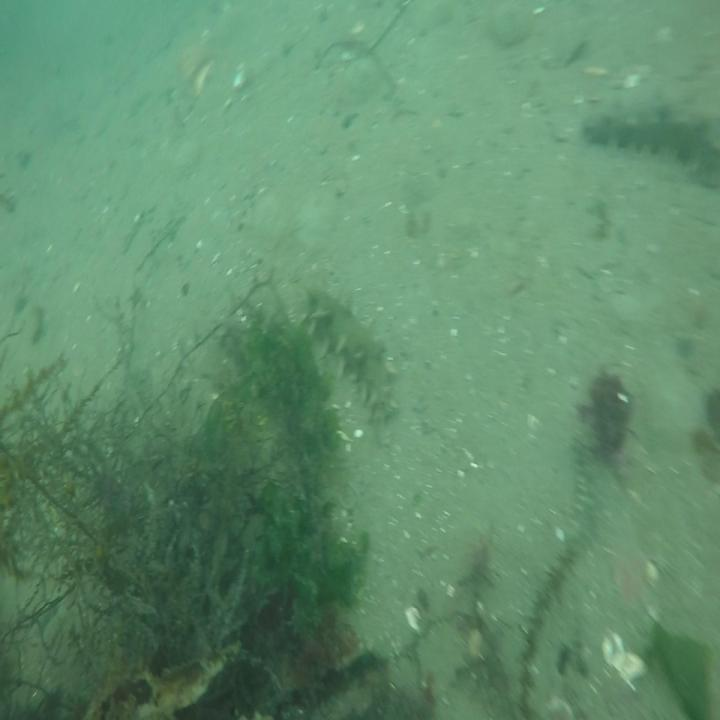holothurian: (298, 279, 400, 428), (579, 90, 720, 192)
scallop: (598, 621, 652, 693)
